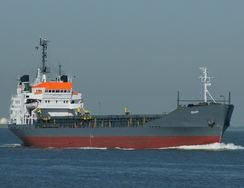Cargoship: (4, 34, 241, 149)
